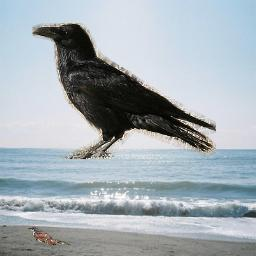Crow: (32, 23, 216, 159)
Cuckoo: (27, 226, 71, 247)
